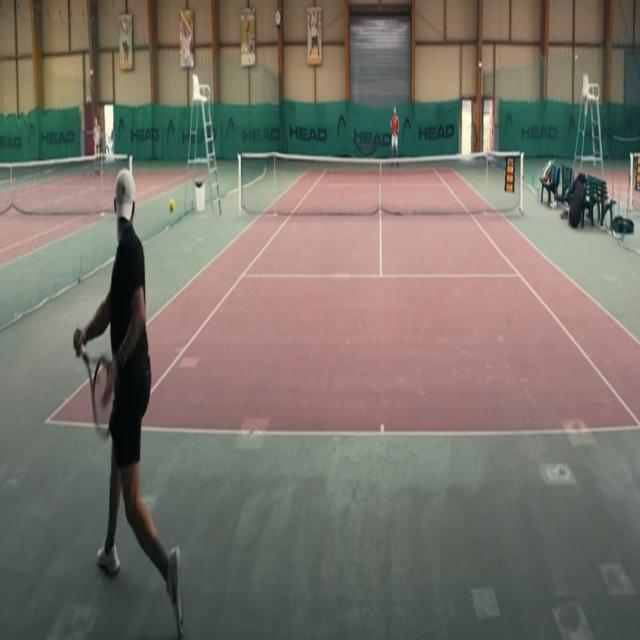ball: (169, 198, 175, 215)
